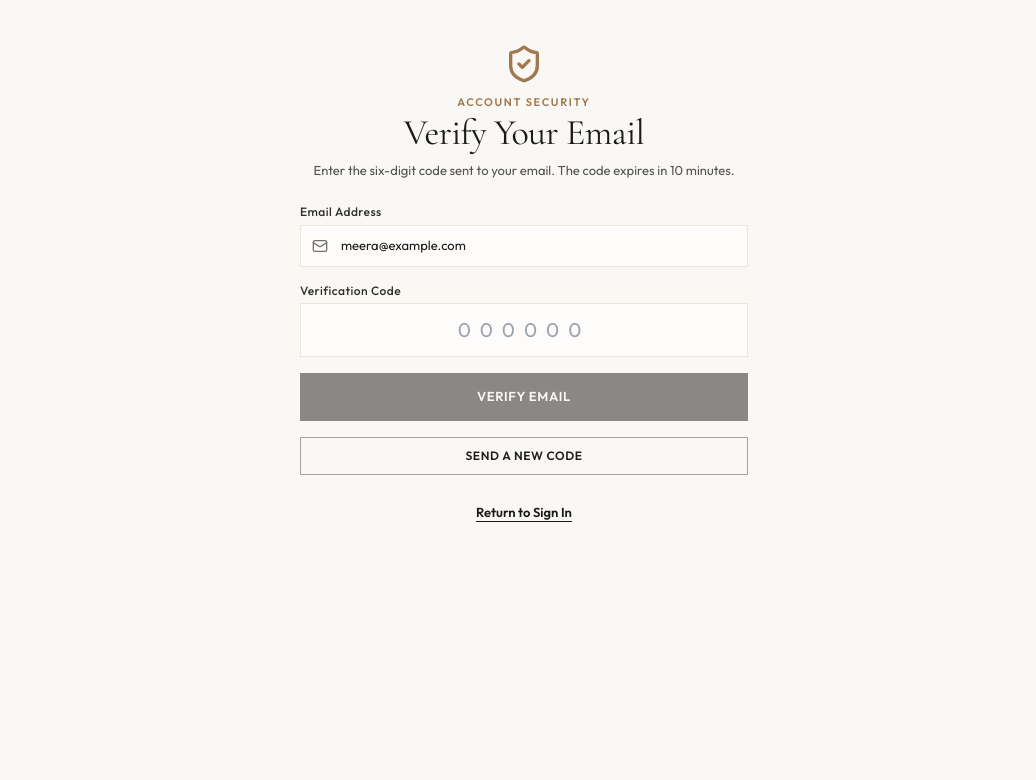
Test: VerifyEmailPage › accepts only a six-digit OTP, establishes auth state, and follows a safe redirect
Type "12ab34567" into the field labelled "Verification Code".
click(524, 330); type("12ab34567")  # box x1=300 y1=303 x2=748 y2=357
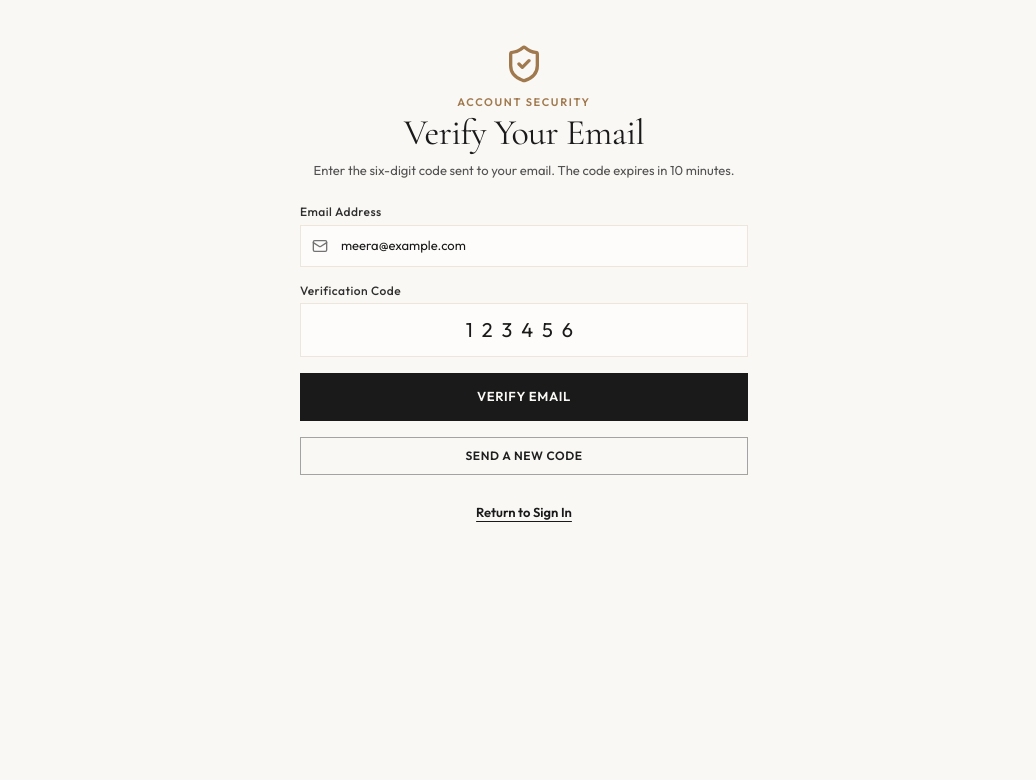
Expected: the field labelled "Verification Code" holds "123456", x1=300 y1=303 x2=748 y2=357
Click the button "VERIFY EMAIL".
click(524, 397)  # box x1=300 y1=373 x2=748 y2=421
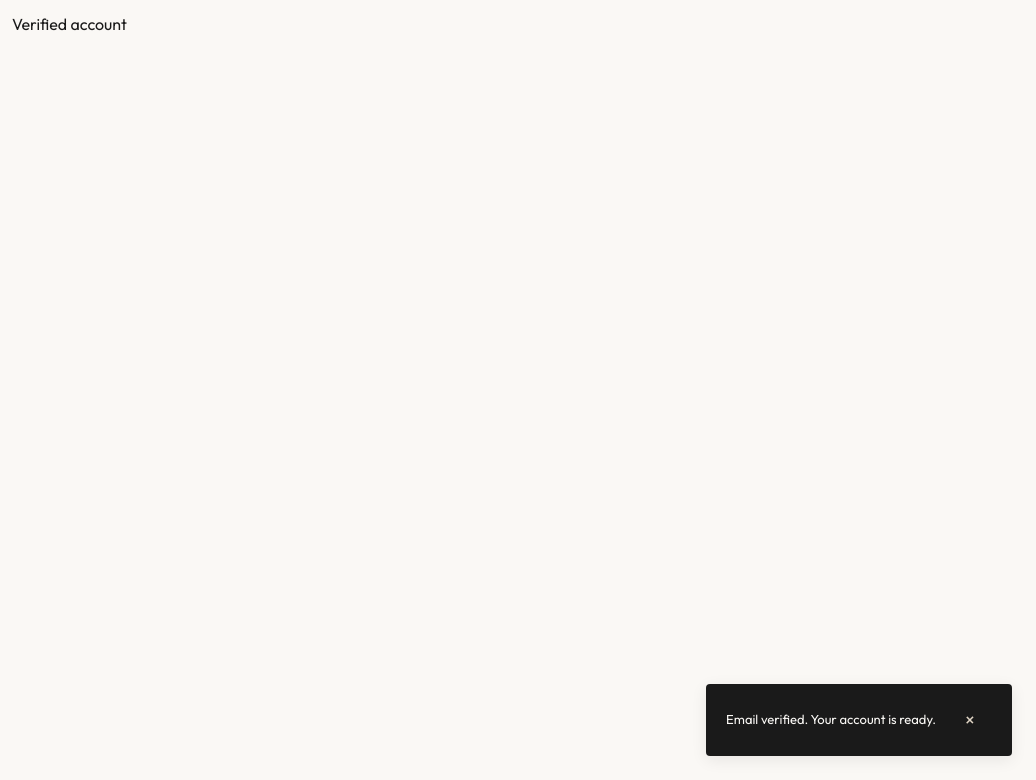
Expected: the text "Verified account" is shown, x1=12 y1=14 x2=127 y2=34
